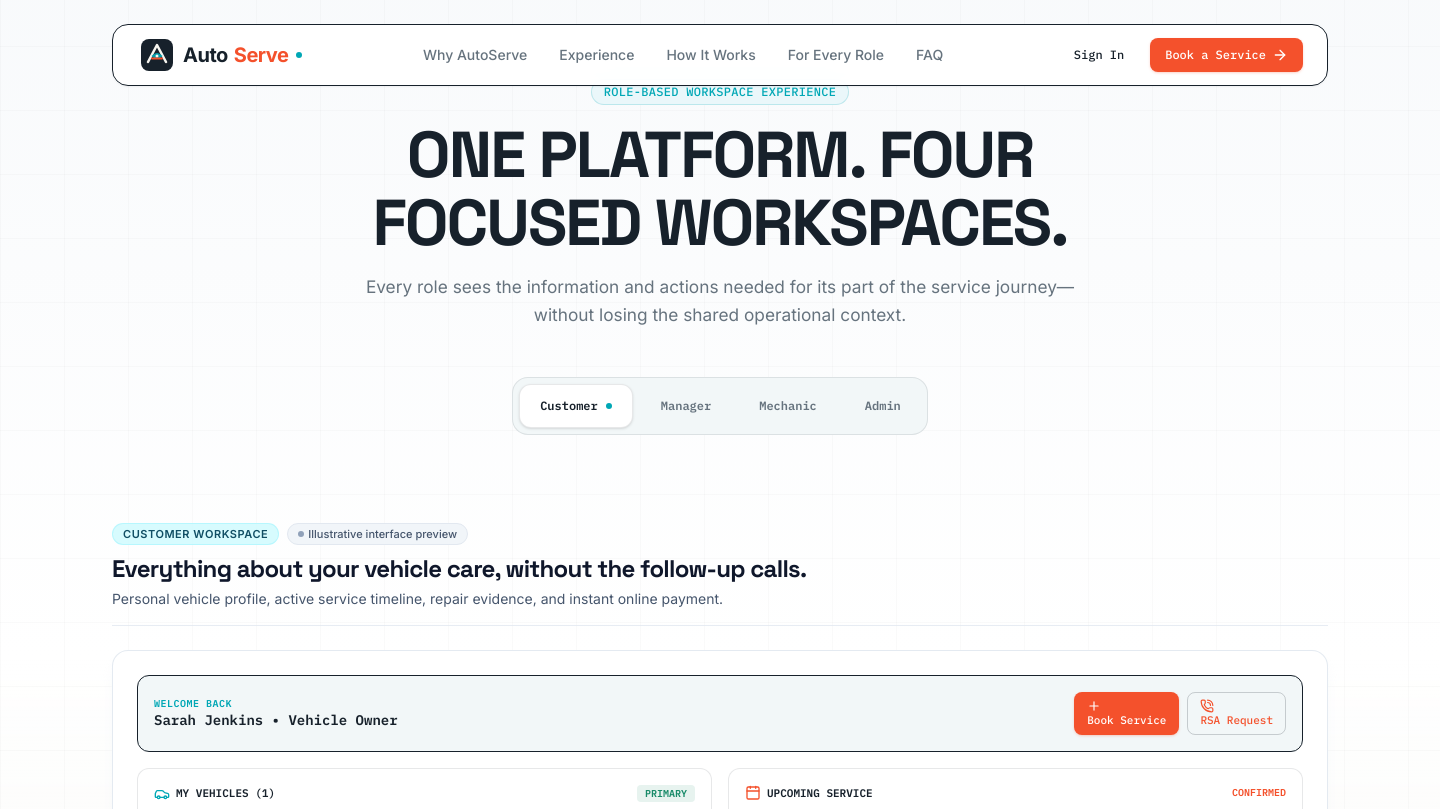
Test case: AutoServe Part 6D — Trust, Evidence, Payment & Roadside Tests › 13. selecting Admin changes workspace content
The image size is (1440, 809).
(page scrolled)
Click the tab "Admin" at (883, 406), box [845,384,921,428]
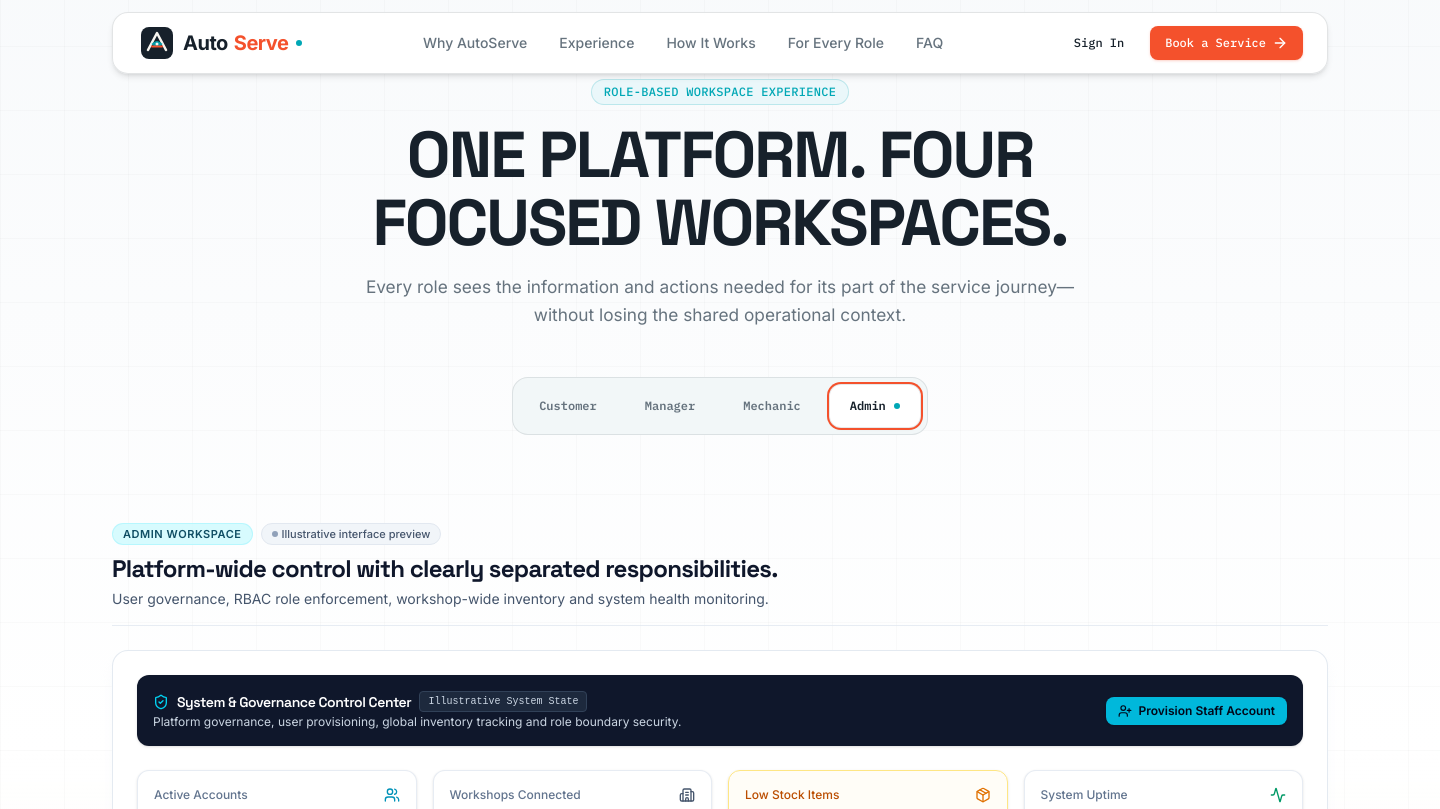
expect the heading "Platform-wide control with clearly separated responsibilities." is shown: met, box [112,553,778,585]
expect the heading "System & Governance Control Center" is shown: met, box [177,692,411,712]
